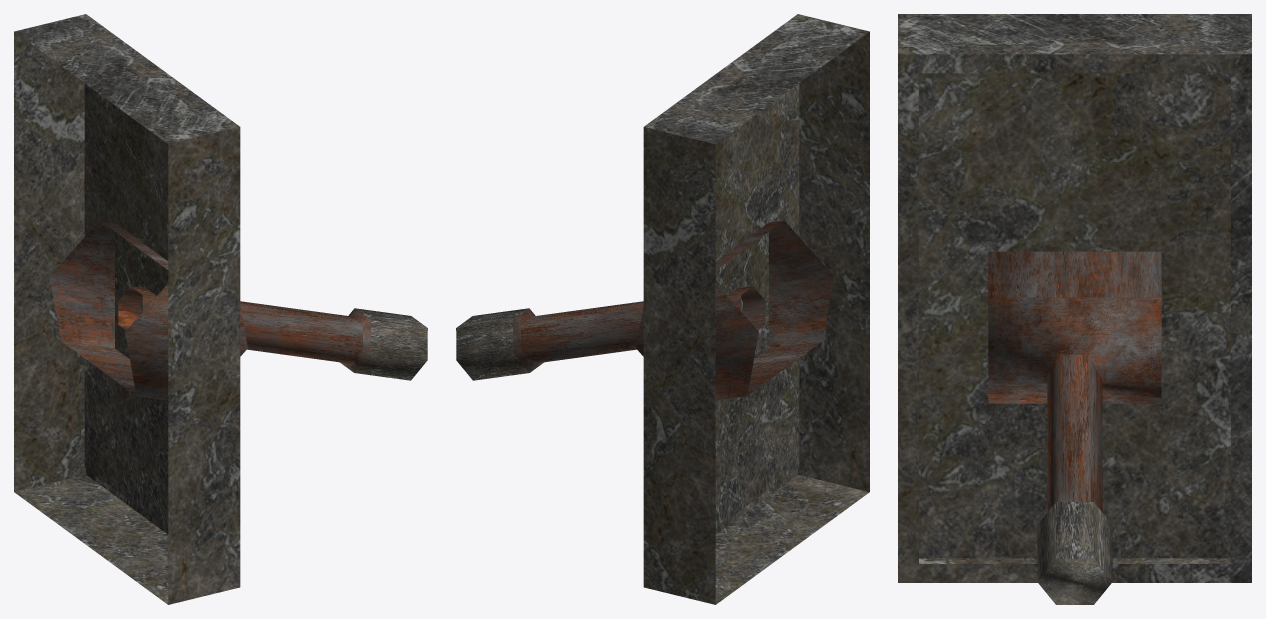
The model's file is lever_anim20.obj.
3 renders of one model, left to right at view 1: azimuth 30°, elevation 25°; view 2: azimuth 150°, elevation 25°; view 3: azimuth 270°, elevation 25°, orthographic. The views are drawn at different scales.
Visible parts, largest first — view 1: Cube, Cylinder; view 2: Cube, Cylinder; view 3: Cube, Cylinder.
Boxes of the visible parts, bbox=[...] form: Cube: bbox=[14, 14, 240, 604]; Cylinder: bbox=[49, 220, 427, 400]; Cube: bbox=[643, 14, 869, 604]; Cylinder: bbox=[456, 220, 834, 400]; Cube: bbox=[898, 14, 1251, 582]; Cylinder: bbox=[988, 251, 1161, 604].
Size of the model in its own units: 1.51 by 2 by 1.21.
Materials: 2 (2 with a texture image).
